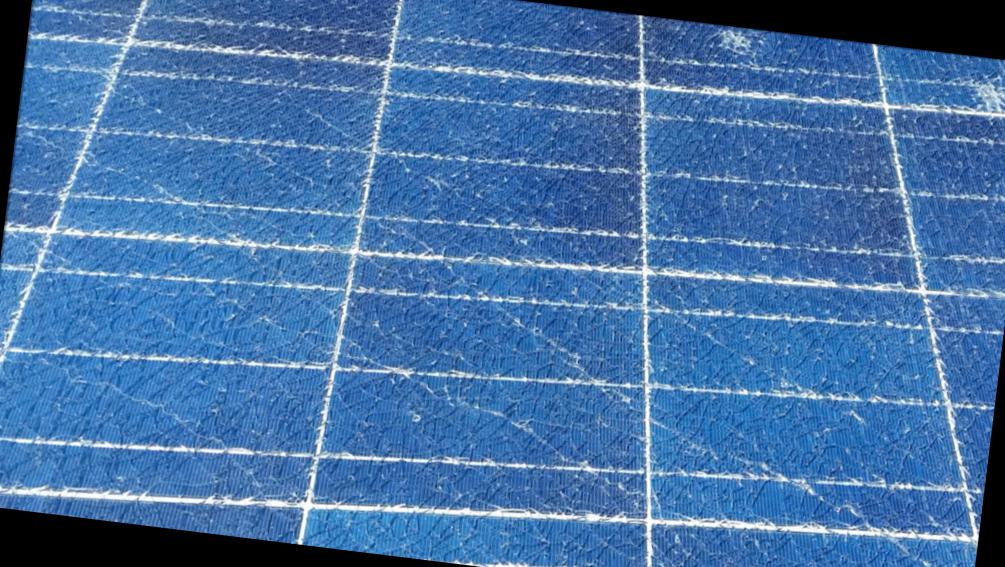Crack: (940, 66, 1004, 136), (697, 24, 773, 74)
